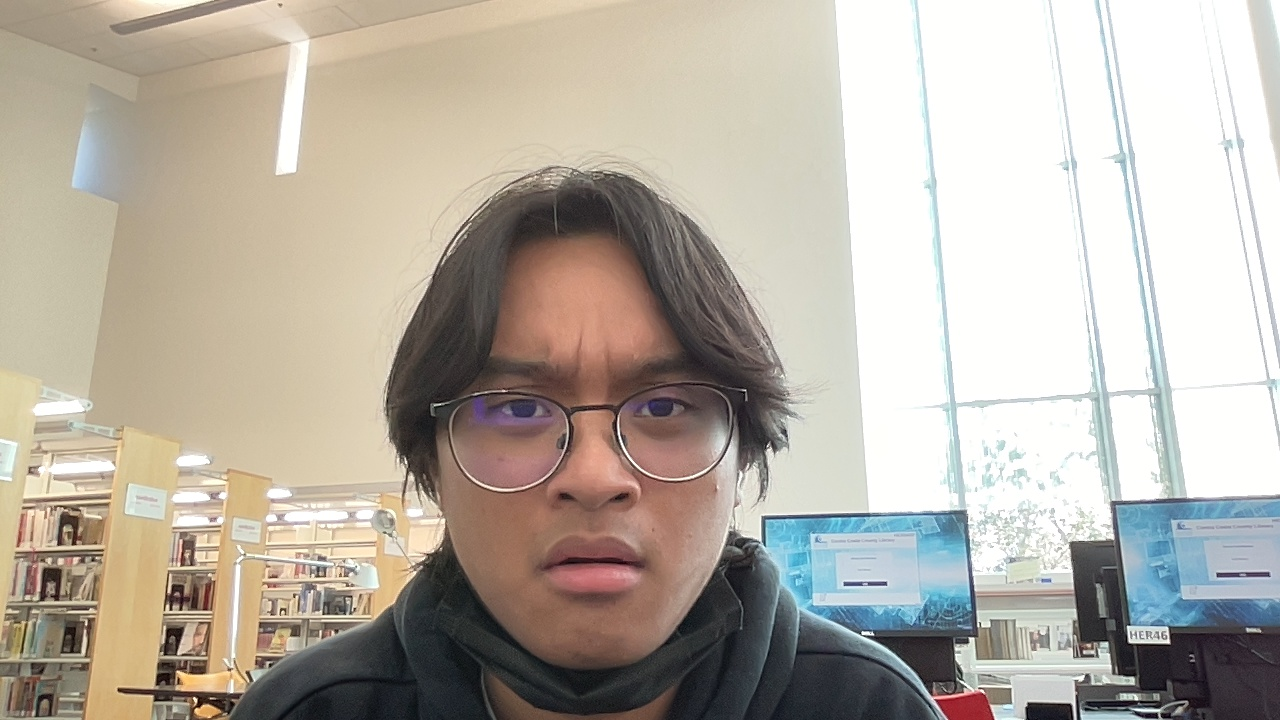fear: (421, 216, 769, 672)
